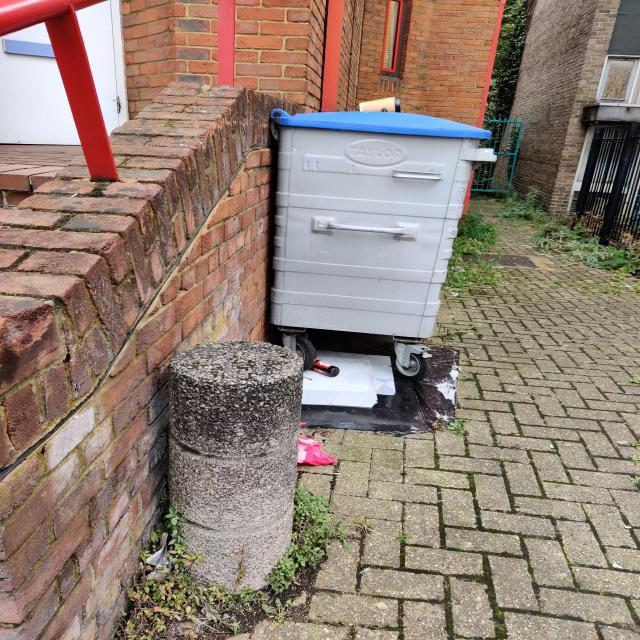litter: (295, 436, 339, 465), (359, 96, 402, 112), (311, 359, 340, 377), (394, 96, 401, 113)
